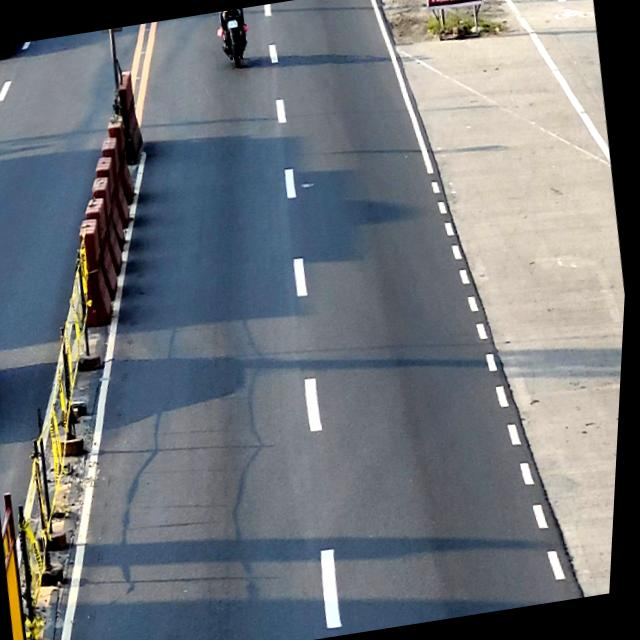License-Plate: (227, 20, 238, 29)
Motorcycle: (216, 8, 251, 70)
